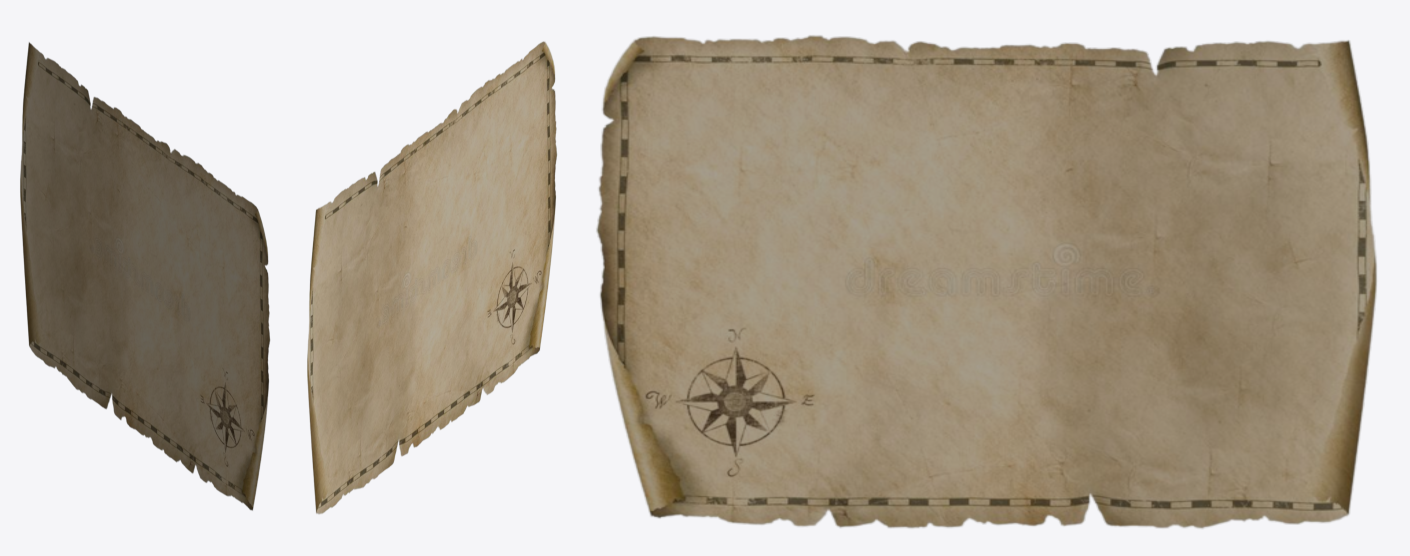
File: map.glb
3 renders of one model, left to right at view 1: azimuth 30°, elevation 25°; view 2: azimuth 150°, elevation 25°; view 3: azimuth 270°, elevation 25°, orthographic. The views are drawn at different scales.
Parts seen in each view (by area): view 1: map-removebg-preview; view 2: map-removebg-preview; view 3: map-removebg-preview.
Boxes of the visible parts, x1,y1,x2,y2 form: map-removebg-preview: (20,42,269,510); map-removebg-preview: (307,41,557,514); map-removebg-preview: (596,35,1376,528).
Size of the model in its own units: 7.11e-08 by 1 by 1.39.
Materials: 1 (1 with a texture image).
